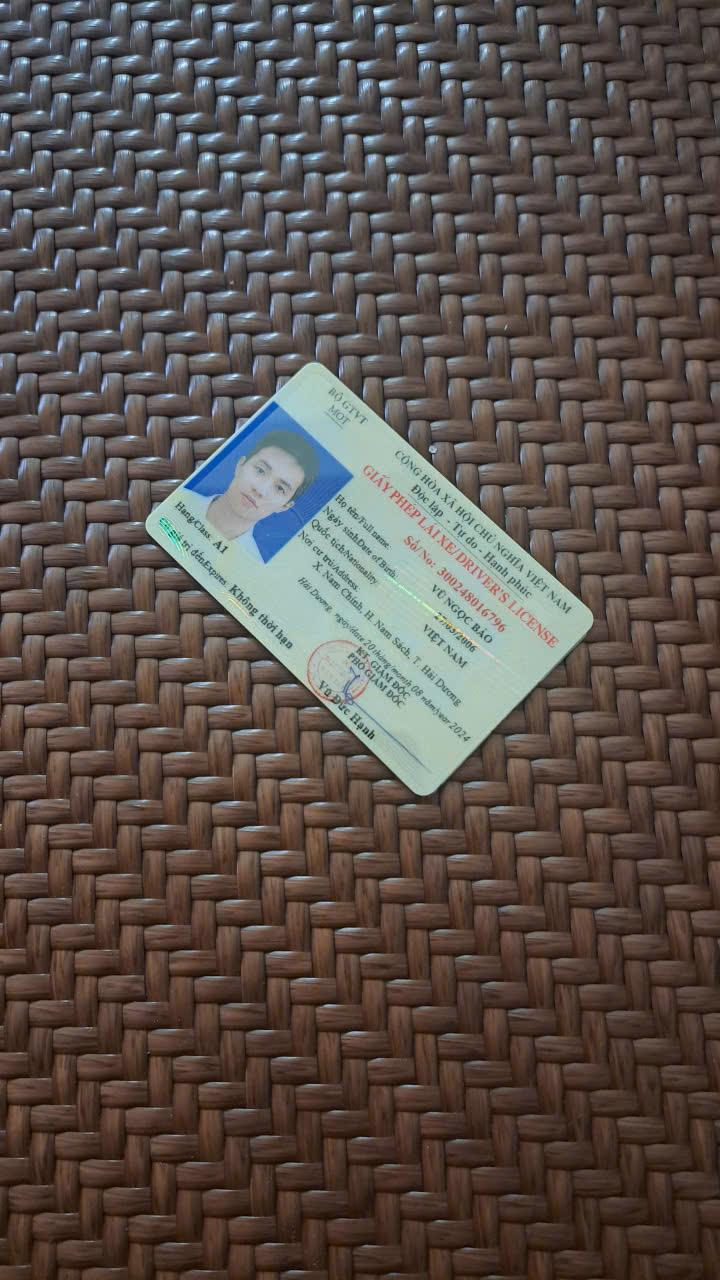gplx: (140, 355, 600, 800)
